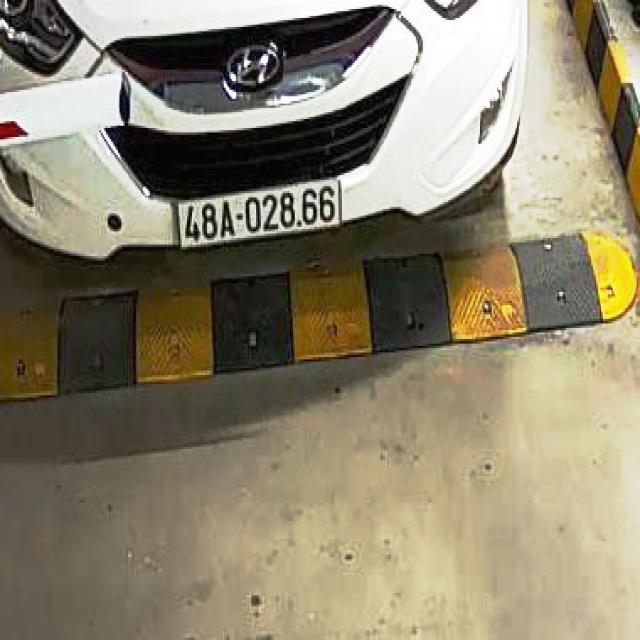license_plate: (177, 172, 343, 251)
